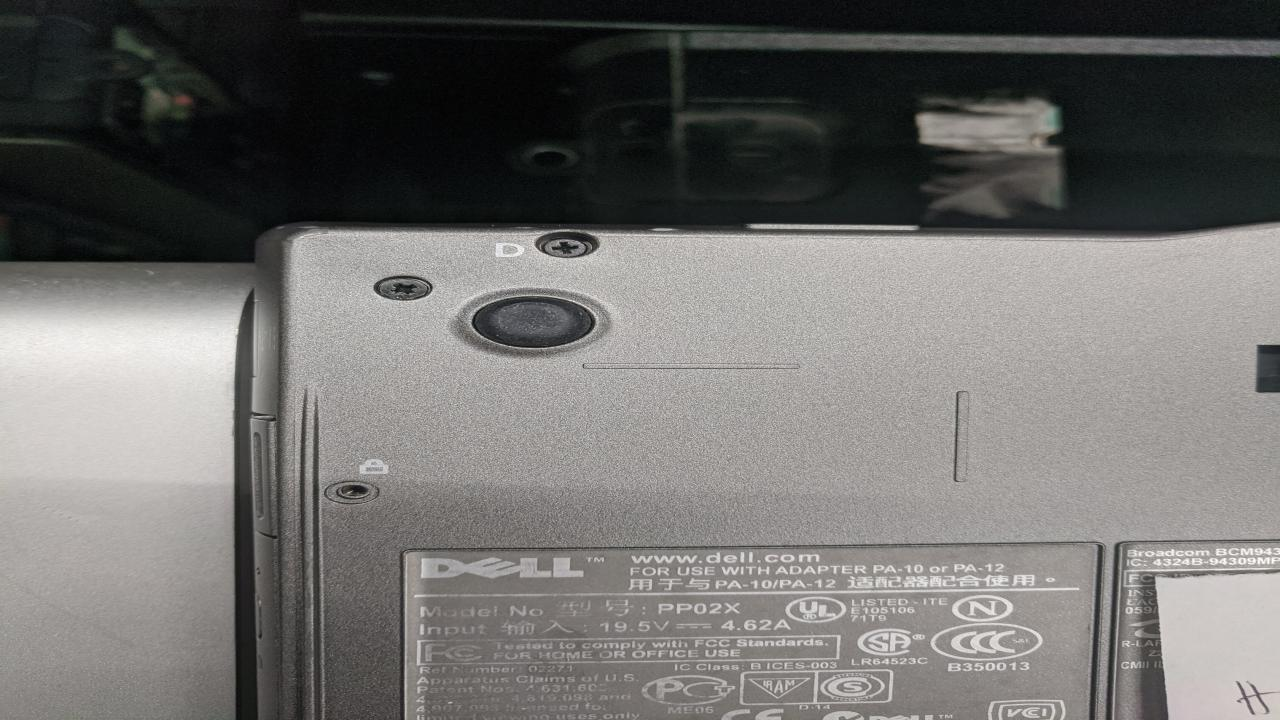CRS: (370, 274, 439, 301), (538, 238, 599, 260)
